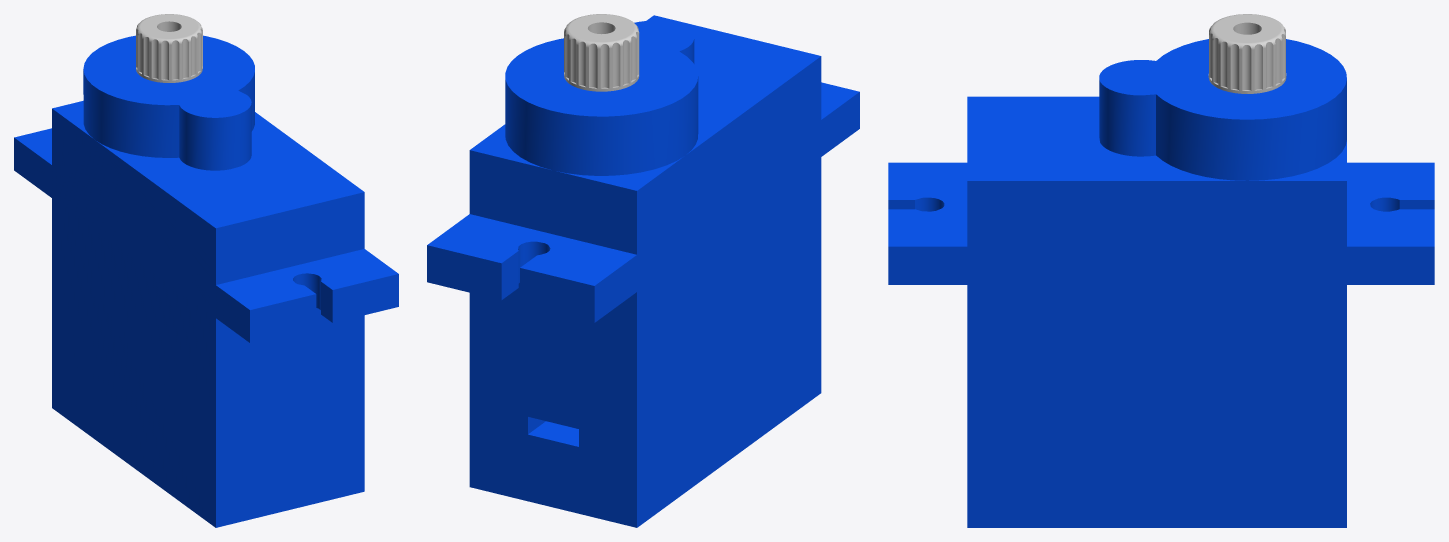
File: servo-sg90.glb
The picture shows the model from 3 angles, left to right: view 1: azimuth 30°, elevation 25°; view 2: azimuth 150°, elevation 25°; view 3: azimuth 270°, elevation 25°; orthographic projection. The views are drawn at different scales.
Visible parts, largest first — view 1: Fusion007001; view 2: Fusion007001; view 3: Fusion007001.
Boxes of the visible parts, box(x1,y1,x2,y2) form: Fusion007001: box(14, 14, 398, 527); Fusion007001: box(427, 14, 859, 527); Fusion007001: box(888, 14, 1434, 527).
Bounding box in the file's own units: 11.8 × 29.9 × 32.4.
